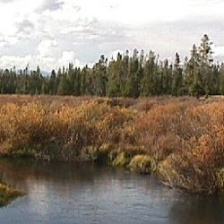neutral: (1, 15, 224, 224)
